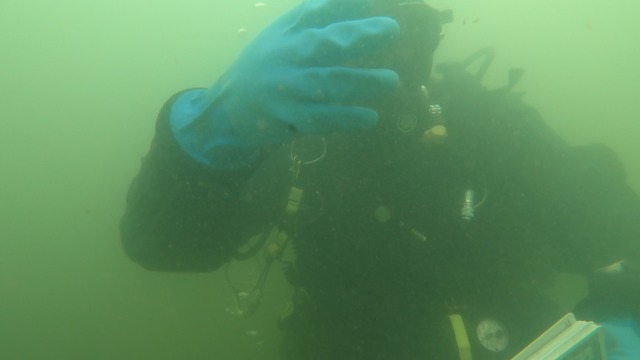Diver: (87, 1, 636, 355)
Hand: (200, 4, 411, 159), (569, 294, 639, 354)
Head: (341, 3, 459, 109)
